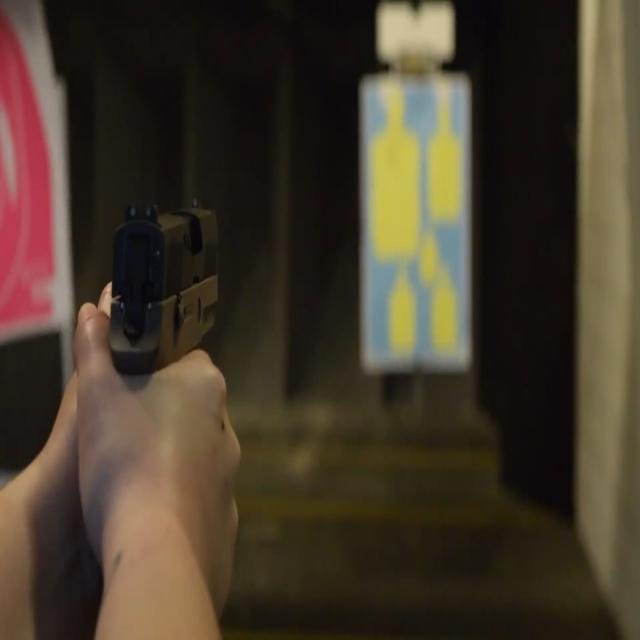handgun: (90, 152, 254, 504)
